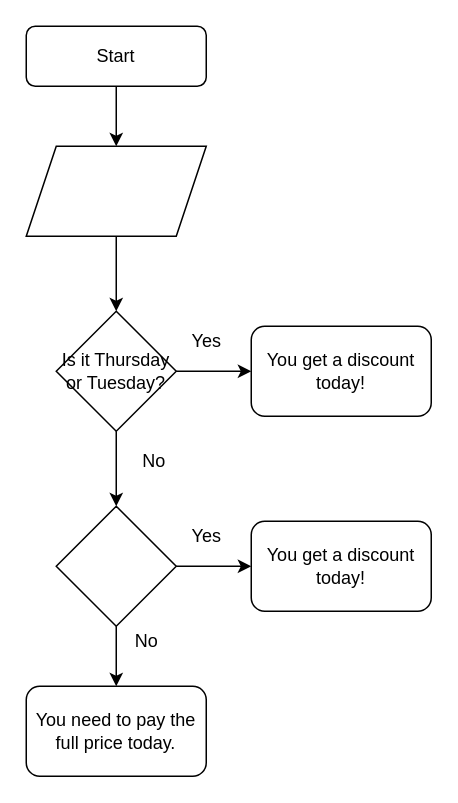
This 458x803 diagram has some shape labels left out. The centre of each missing label's shape, as x and y in pixels:
Is the user between 12-21?: the point at 115,565
User enters age and day: the point at 115,190
